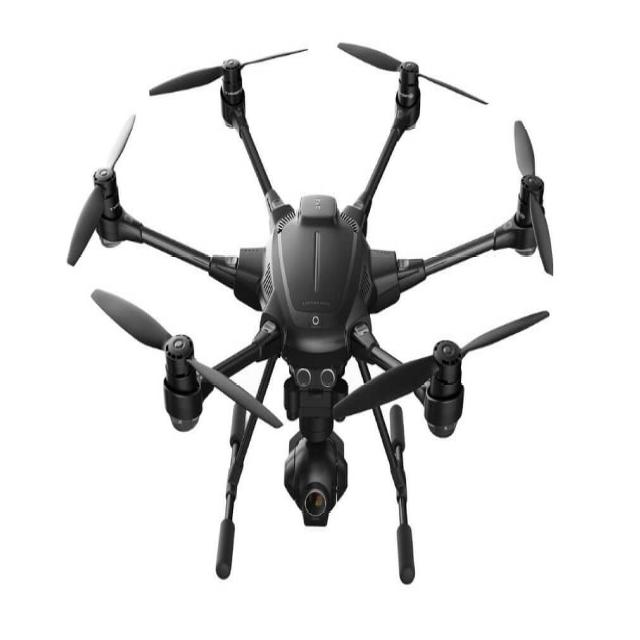drone: (64, 28, 564, 574)
